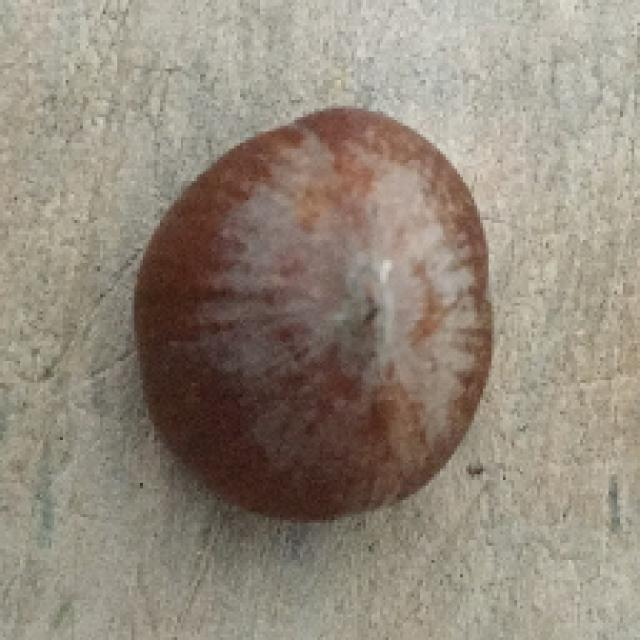qualityHazelnut: (136, 108, 488, 512)
